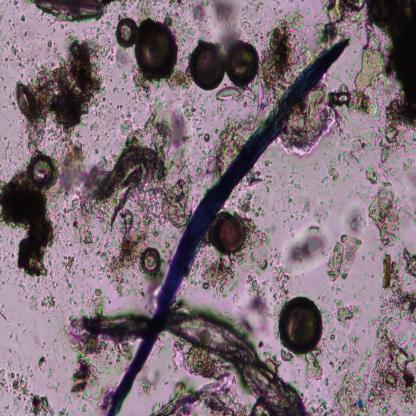Background material: (107, 37, 351, 416), (365, 0, 416, 137), (32, 33, 100, 134), (0, 170, 59, 276), (284, 85, 335, 158), (257, 14, 297, 103), (368, 335, 416, 404), (212, 108, 260, 173), (108, 222, 152, 278), (175, 338, 232, 380), (132, 193, 174, 249), (371, 186, 404, 253), (119, 113, 171, 154), (283, 225, 328, 272), (325, 237, 364, 286), (95, 187, 133, 236), (324, 87, 377, 122), (240, 216, 270, 272), (378, 245, 416, 289), (353, 44, 389, 90), (69, 356, 102, 404), (54, 161, 96, 198), (202, 255, 238, 296), (162, 180, 194, 225), (65, 331, 116, 358), (294, 0, 312, 68), (215, 383, 251, 416), (377, 289, 416, 319), (322, 0, 366, 24), (349, 119, 376, 156), (160, 150, 192, 181), (58, 140, 87, 169), (24, 120, 47, 156), (68, 198, 95, 228), (378, 137, 410, 162), (302, 349, 326, 381), (248, 294, 276, 321), (213, 1, 239, 30), (273, 264, 290, 304), (24, 395, 54, 416), (172, 113, 190, 148), (395, 194, 412, 229), (349, 207, 367, 240), (334, 109, 355, 135), (321, 306, 337, 340), (348, 10, 367, 38), (338, 334, 360, 357), (336, 306, 359, 327), (346, 184, 370, 204), (374, 316, 396, 337), (259, 351, 282, 371), (97, 386, 114, 413), (136, 81, 154, 106), (136, 0, 158, 20), (74, 226, 96, 245), (396, 320, 412, 346), (13, 373, 30, 397), (241, 23, 258, 47), (244, 170, 263, 191), (237, 193, 256, 214), (100, 37, 115, 63), (240, 314, 256, 338), (322, 336, 338, 360), (136, 382, 155, 402), (306, 399, 327, 416), (219, 29, 240, 46), (93, 355, 114, 372), (62, 254, 78, 276), (161, 8, 179, 27), (228, 253, 246, 272), (90, 237, 107, 257), (125, 96, 145, 113), (364, 164, 379, 186), (118, 0, 135, 19), (116, 341, 133, 360), (338, 147, 358, 163), (182, 99, 197, 120), (180, 65, 192, 91), (92, 286, 102, 317), (379, 166, 393, 188), (279, 347, 296, 365), (245, 274, 260, 294), (378, 402, 399, 416), (46, 185, 63, 202), (324, 22, 336, 46), (40, 292, 57, 308), (106, 238, 124, 253), (116, 51, 131, 69), (77, 291, 93, 307), (318, 20, 326, 51), (336, 358, 351, 374), (193, 4, 207, 21), (252, 403, 270, 416), (0, 368, 9, 394), (190, 258, 201, 279), (364, 400, 378, 416), (154, 100, 167, 116), (400, 403, 416, 416), (270, 248, 281, 266), (2, 139, 11, 161), (304, 394, 318, 408), (196, 124, 206, 143), (342, 168, 354, 183), (47, 201, 62, 212), (49, 141, 59, 157), (56, 52, 66, 68), (180, 49, 190, 65), (93, 108, 106, 120), (101, 101, 115, 112), (402, 158, 413, 172), (42, 309, 53, 323), (177, 21, 188, 35), (338, 135, 350, 147), (109, 117, 118, 133), (77, 399, 87, 413), (56, 325, 70, 335), (256, 204, 266, 218), (177, 35, 187, 49), (199, 106, 210, 118), (63, 278, 73, 291), (327, 384, 337, 397), (16, 321, 26, 334), (131, 65, 139, 81), (232, 295, 240, 311), (328, 164, 336, 180), (302, 201, 311, 215), (40, 276, 49, 290), (367, 316, 373, 337), (116, 223, 124, 238), (264, 178, 272, 193), (62, 242, 74, 252), (289, 167, 299, 179), (185, 33, 194, 46), (62, 213, 70, 227), (13, 398, 20, 414), (6, 357, 14, 371), (201, 150, 208, 166), (61, 132, 72, 142), (82, 249, 92, 260), (38, 357, 48, 368), (58, 407, 70, 416), (64, 393, 72, 406), (18, 280, 26, 293), (101, 132, 111, 142), (190, 278, 200, 288), (10, 45, 19, 56), (286, 189, 292, 205), (49, 382, 61, 390), (101, 73, 109, 85), (305, 379, 313, 391), (105, 22, 117, 30), (186, 0, 194, 12), (48, 58, 56, 70), (266, 174, 274, 186), (264, 226, 276, 234), (121, 72, 129, 84), (199, 21, 206, 34), (409, 321, 416, 334), (334, 297, 343, 307), (368, 251, 378, 260), (99, 263, 109, 272), (89, 121, 99, 130), (15, 152, 26, 160), (54, 212, 62, 223), (63, 200, 69, 214), (105, 256, 117, 263), (4, 238, 10, 252), (46, 126, 54, 136), (18, 356, 23, 372), (16, 61, 26, 69), (54, 224, 65, 231), (9, 237, 16, 248), (48, 368, 55, 379), (257, 1, 264, 12), (14, 269, 21, 280), (328, 361, 336, 370), (0, 312, 8, 321), (75, 132, 84, 140), (272, 204, 278, 216), (115, 102, 124, 110), (296, 366, 302, 378), (34, 283, 40, 295), (168, 0, 180, 6), (56, 229, 61, 243), (14, 336, 21, 346), (17, 68, 24, 78), (22, 0, 36, 5), (364, 350, 371, 360), (413, 205, 416, 228), (203, 135, 214, 141), (117, 356, 122, 369), (260, 279, 268, 287), (196, 168, 204, 176), (188, 28, 196, 36), (322, 175, 331, 182), (100, 84, 107, 93), (409, 333, 416, 342), (34, 63, 41, 72), (295, 182, 302, 191), (12, 101, 18, 111), (160, 88, 166, 98), (317, 216, 323, 226), (0, 10, 5, 22), (52, 348, 58, 358), (336, 286, 342, 296), (330, 158, 337, 166), (30, 296, 38, 303), (80, 119, 87, 127), (196, 90, 203, 98), (51, 282, 59, 289), (15, 230, 23, 237), (258, 342, 265, 350), (19, 132, 24, 143), (324, 377, 330, 386), (264, 161, 273, 167), (113, 85, 119, 94), (181, 6, 186, 16), (97, 273, 102, 283), (17, 143, 24, 150), (81, 267, 87, 275), (288, 213, 296, 219), (295, 210, 299, 222), (87, 273, 95, 279), (7, 264, 15, 270), (20, 14, 26, 22), (0, 164, 4, 176), (281, 181, 289, 187), (0, 236, 6, 244), (34, 302, 40, 310), (91, 262, 96, 271), (237, 183, 242, 192), (279, 9, 286, 15), (97, 28, 104, 34), (16, 393, 22, 400), (20, 36, 26, 43), (293, 379, 300, 385), (314, 164, 320, 171), (94, 147, 100, 154), (3, 62, 9, 69), (8, 20, 12, 30), (68, 296, 73, 304), (2, 34, 7, 42), (323, 211, 327, 221), (3, 254, 8, 262), (312, 212, 322, 216), (413, 175, 416, 187), (5, 40, 11, 46), (364, 302, 370, 308), (166, 365, 172, 371), (16, 56, 22, 62), (56, 304, 62, 310), (50, 270, 54, 279), (0, 73, 4, 82), (96, 134, 101, 141), (13, 32, 18, 39), (74, 301, 79, 308), (12, 22, 16, 30), (26, 364, 30, 372), (48, 40, 52, 48), (8, 346, 12, 354), (8, 157, 12, 165), (329, 198, 334, 204), (10, 38, 16, 43), (316, 387, 321, 393), (364, 271, 370, 276), (284, 218, 289, 224), (248, 0, 253, 6), (232, 194, 237, 200), (24, 30, 29, 36), (46, 253, 52, 258), (64, 367, 69, 373), (9, 332, 14, 338), (58, 129, 62, 136), (29, 284, 33, 291), (94, 140, 98, 147), (25, 58, 29, 65), (360, 165, 364, 172), (361, 353, 364, 362), (11, 373, 16, 378), (126, 91, 130, 97), (330, 142, 336, 146), (42, 341, 46, 347), (197, 281, 203, 285), (6, 404, 10, 410), (30, 303, 34, 309), (101, 20, 104, 28), (54, 48, 58, 54), (290, 180, 294, 186), (60, 23, 64, 29), (20, 49, 24, 55), (37, 278, 41, 284), (70, 289, 74, 295), (282, 207, 286, 213), (14, 0, 18, 6), (48, 260, 52, 266), (300, 214, 304, 220), (37, 32, 40, 39), (12, 7, 15, 14), (31, 58, 34, 65), (371, 294, 374, 301), (53, 27, 56, 34), (3, 105, 8, 109), (8, 93, 12, 98), (15, 5, 19, 10), (10, 57, 14, 62), (11, 254, 15, 259), (16, 292, 21, 296), (53, 136, 58, 140), (269, 287, 273, 292), (13, 260, 17, 265), (18, 298, 22, 303), (71, 36, 75, 41), (54, 129, 57, 135), (21, 120, 24, 126), (61, 310, 64, 316), (5, 56, 8, 62), (329, 204, 332, 210), (103, 96, 106, 102), (2, 280, 5, 286), (14, 162, 18, 166), (4, 136, 8, 140), (46, 55, 50, 59), (362, 256, 366, 260), (24, 296, 28, 300), (0, 48, 4, 52), (64, 303, 68, 307), (363, 285, 366, 290), (59, 365, 62, 370), (110, 78, 113, 83), (50, 136, 53, 141), (6, 278, 9, 283), (0, 269, 3, 274), (63, 355, 66, 360), (35, 320, 37, 327), (54, 339, 57, 343), (57, 254, 60, 258), (4, 86, 6, 92), (319, 192, 323, 195), (7, 252, 10, 256), (52, 310, 55, 314), (231, 202, 234, 206), (325, 184, 328, 188), (302, 174, 304, 180), (324, 151, 326, 157), (0, 283, 2, 289), (13, 283, 17, 286), (121, 86, 124, 90), (0, 30, 2, 36), (8, 310, 12, 313), (0, 256, 3, 260), (36, 308, 39, 312), (57, 271, 60, 275), (45, 34, 48, 38), (2, 303, 4, 308), (48, 49, 50, 54), (332, 287, 334, 292), (57, 135, 60, 138), (46, 353, 49, 356), (53, 260, 56, 263), (40, 312, 43, 315), (9, 124, 11, 128), (48, 319, 50, 323), (61, 277, 63, 281), (321, 202, 323, 205), (42, 345, 44, 348), (48, 138, 50, 141), (51, 256, 53, 259), (55, 315, 57, 318), (18, 9, 20, 12), (42, 38, 44, 41), (75, 287, 77, 290), (57, 277, 60, 279), (0, 253, 2, 255), (9, 1, 11, 3), (284, 166, 285, 169), (29, 28, 30, 30), (35, 56, 37, 57)
Cellulose filter fibre: (69, 252, 304, 362), (93, 143, 164, 198), (158, 380, 216, 416)
Cotton: (326, 361, 370, 416)
Diatom: (138, 20, 179, 84), (278, 295, 324, 352), (188, 40, 224, 92), (225, 40, 258, 87), (212, 211, 248, 254), (39, 0, 102, 21), (29, 155, 55, 193), (16, 83, 35, 121), (116, 17, 139, 48), (138, 248, 162, 277), (218, 84, 242, 104)
